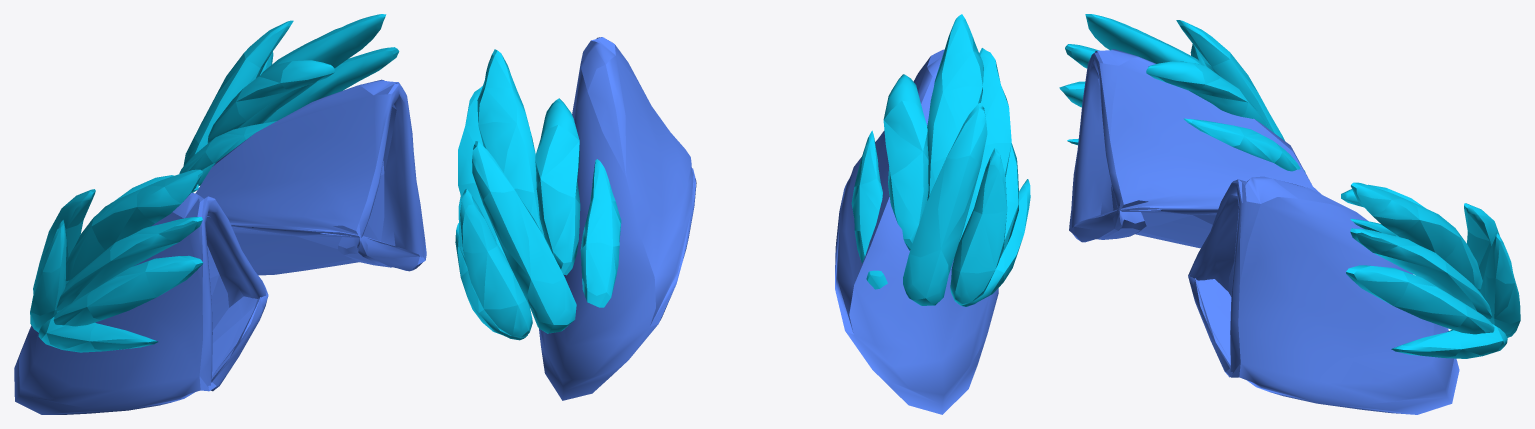
The picture shows the model from 3 angles, left to right: view 1: azimuth 30°, elevation 25°; view 2: azimuth 150°, elevation 25°; view 3: azimuth 270°, elevation 25°; orthographic projection. The views are drawn at different scales.
Visible parts, largest first — view 1: ear_ice, crystals_ice; view 2: crystals_ice, ear_ice; view 3: ear_ice, crystals_ice.
Part boxes in pixels (bbox=[...]): ear_ice: bbox=[14, 79, 426, 414]; crystals_ice: bbox=[30, 14, 399, 352]; crystals_ice: bbox=[455, 14, 1030, 340]; ear_ice: bbox=[539, 37, 998, 414]; ear_ice: bbox=[1069, 49, 1459, 414]; crystals_ice: bbox=[1059, 14, 1520, 358].
Size of the model in its own units: 101 by 91.44 by 63.5.
